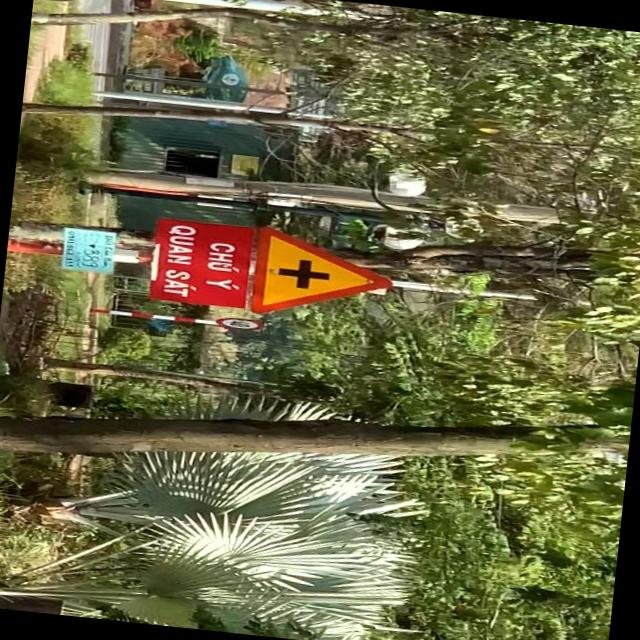W-205a: (247, 224, 398, 324)
